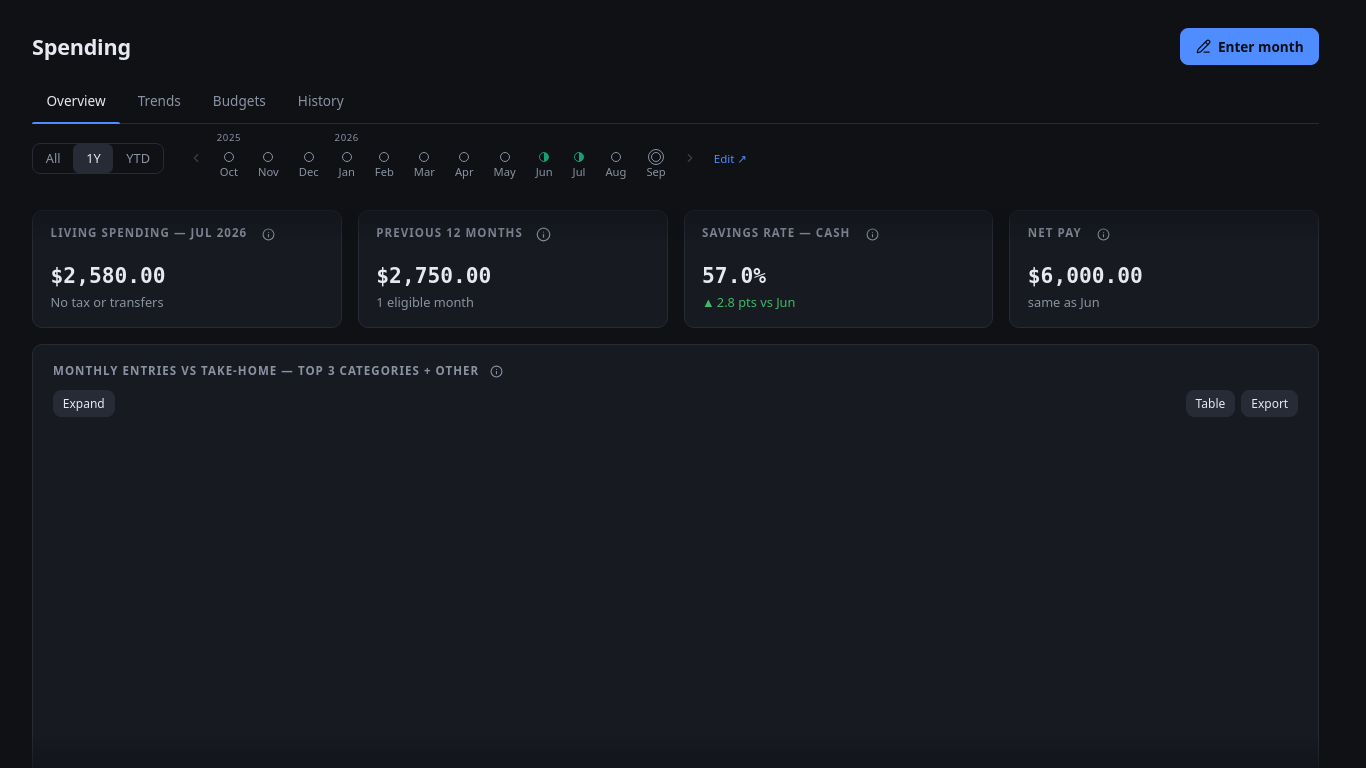
SpendingPage — the grammar mounts (charts C3) › §18: the trends card swaps to small multiples on All categories
Click the tab "Trends" at point(159, 102), box [123,81,195,123]
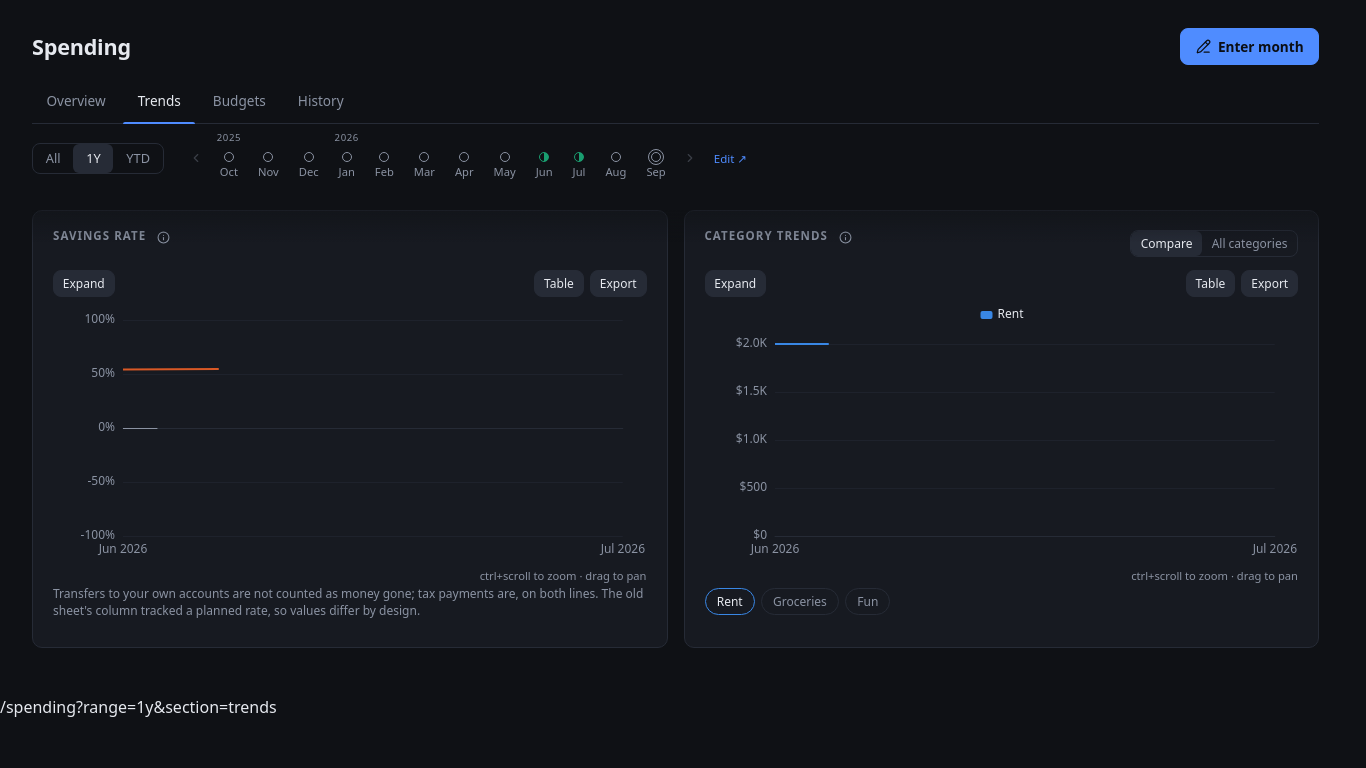
expect the heading "Category trends" is shown: met, box [704,228,858,244]
expect the picture named "Line chart of the selected categories" is shown: met, box [704,304,1298,564]
Click the button "All categories" at point(1250, 243), box [1202,231,1297,256]
(page scrolled)
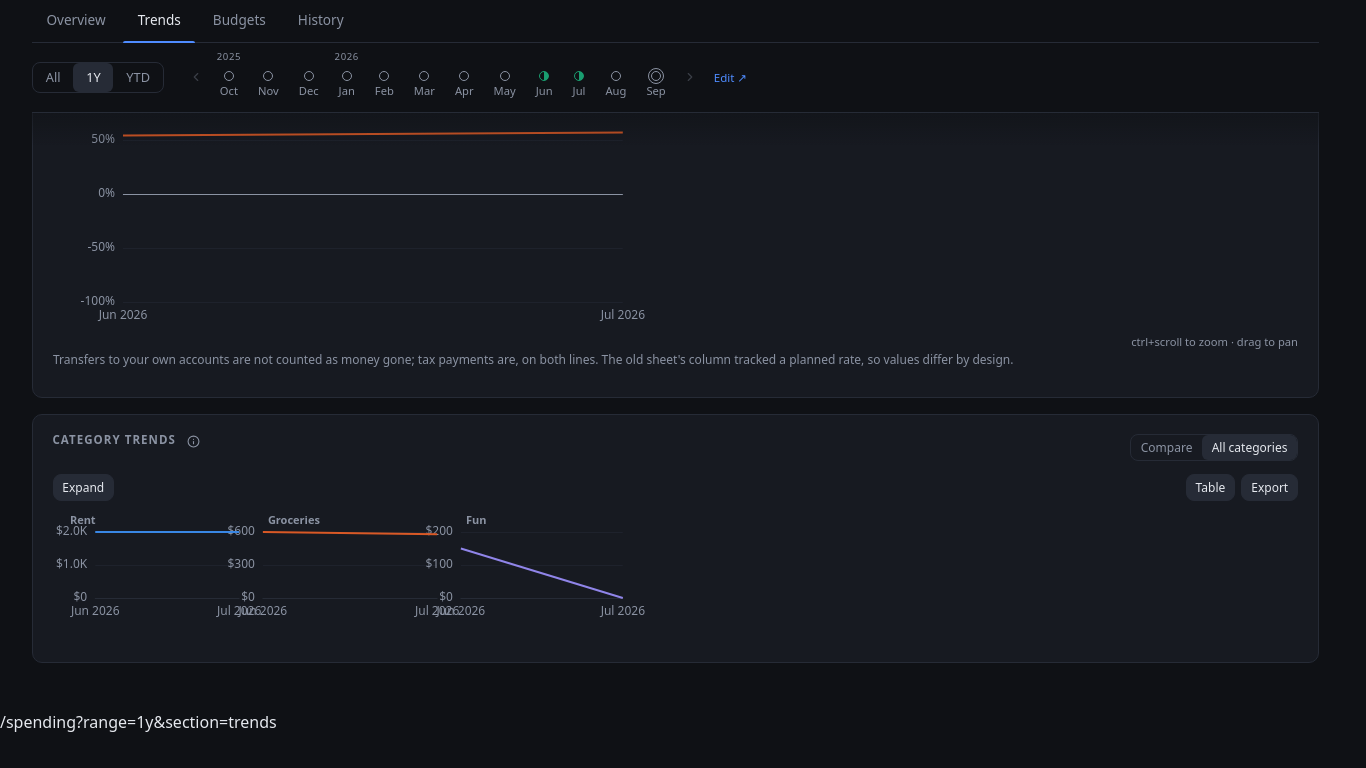
expect the picture named "Small multiples" is shown: met, box [53,508,647,767]
expect the button "Fun" is gone: met
expect the text "ctrl+scroll to zoom · drag to pan" is shown 2 times: met
